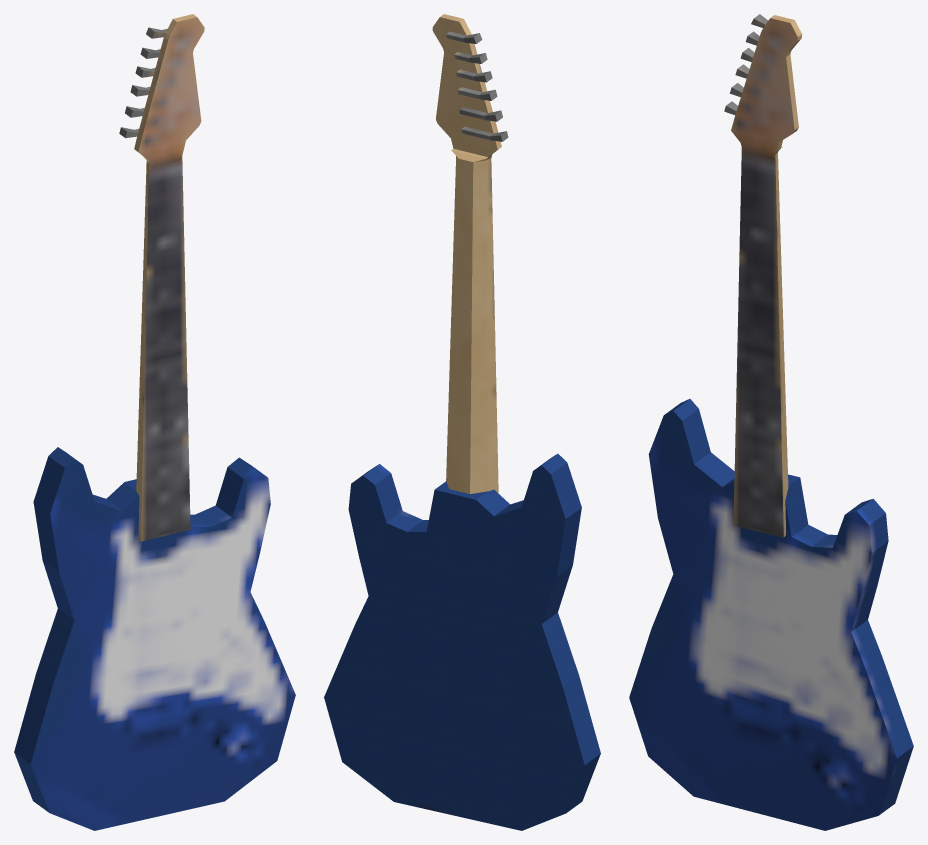
File: int_guitar_blue.fbx
3 renders of one model, left to right at view 1: azimuth 30°, elevation 25°; view 2: azimuth 150°, elevation 25°; view 3: azimuth 330°, elevation 25°, orthographic. The views are drawn at different scales.
Parts seen in each view (by area): view 1: electric_guitar.004; view 2: electric_guitar.004; view 3: electric_guitar.004.
Part boxes in pixels (left/top/right/bottom): electric_guitar.004: left=14, top=14, right=295, bottom=830; electric_guitar.004: left=324, top=14, right=600, bottom=830; electric_guitar.004: left=629, top=14, right=913, bottom=830.
Size of the model in its own units: 64.18 by 184 by 8.4.
